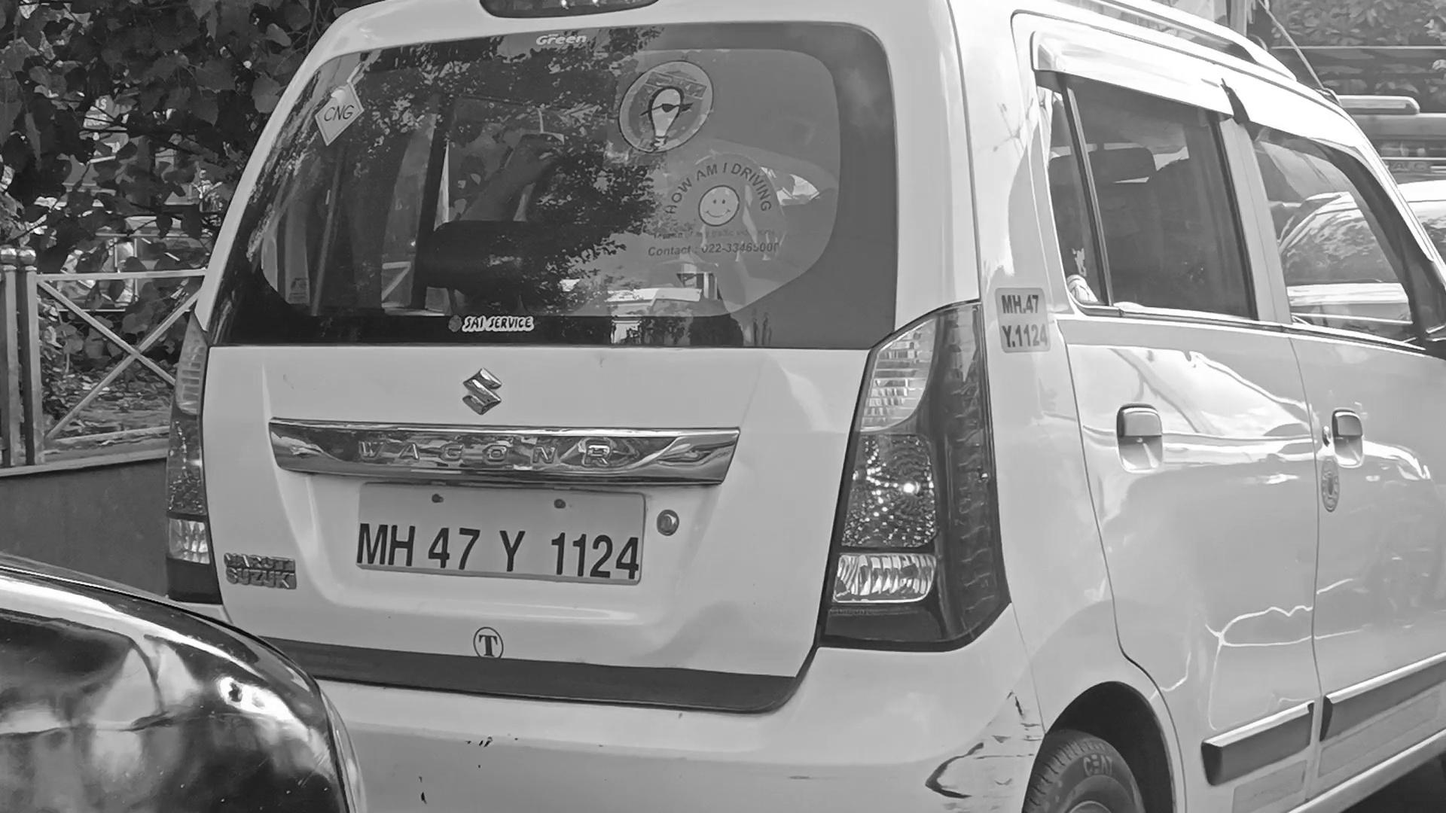number_plate: (355, 482, 640, 584)
